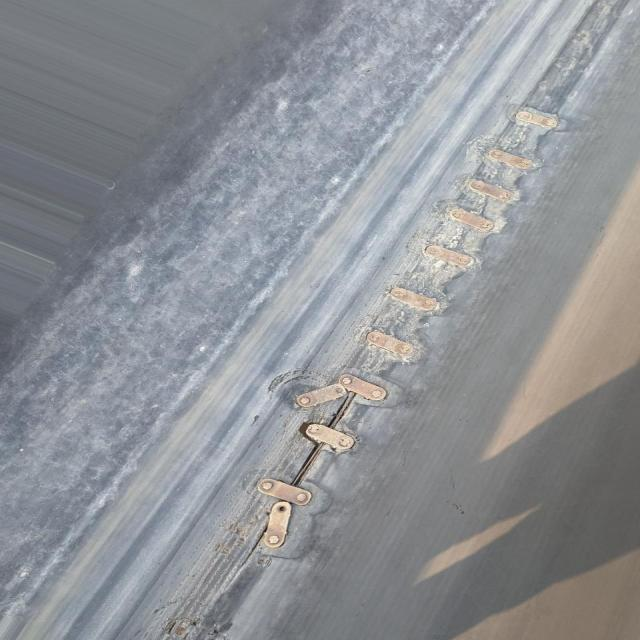patch work: (216, 93, 583, 587)
